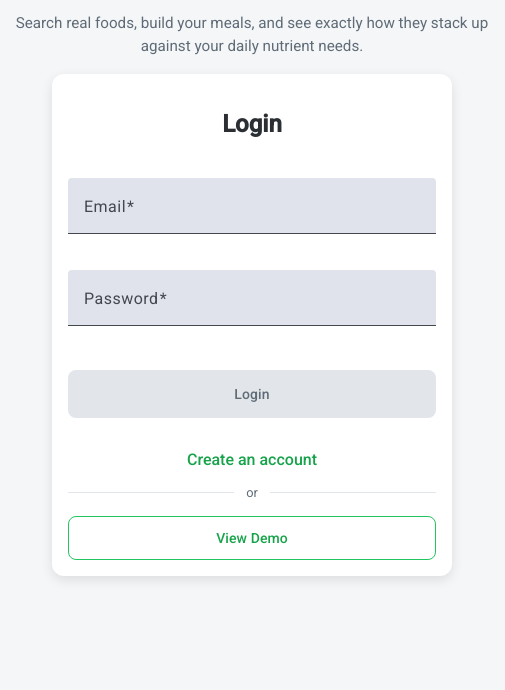
Test: LoginComponent › toggles between login and register with a keyboard-accessible button
Click the button with class "link-button".
click(252, 459)  # box [187,450,317,468]
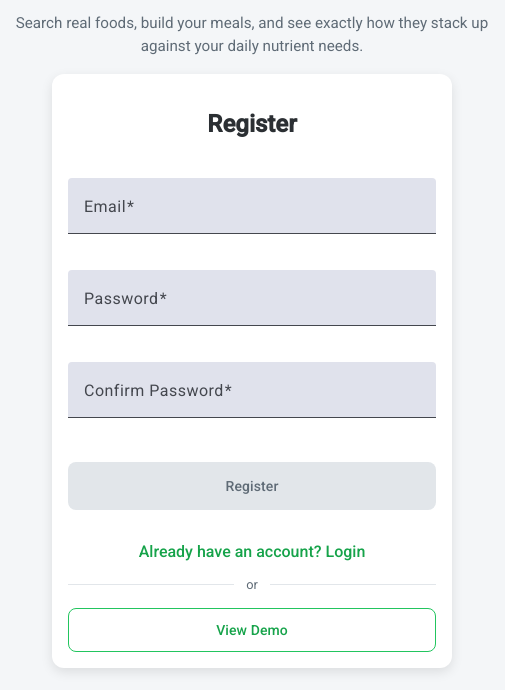
expect the heading "Register" is shown: met, box [207,110,297,138]
